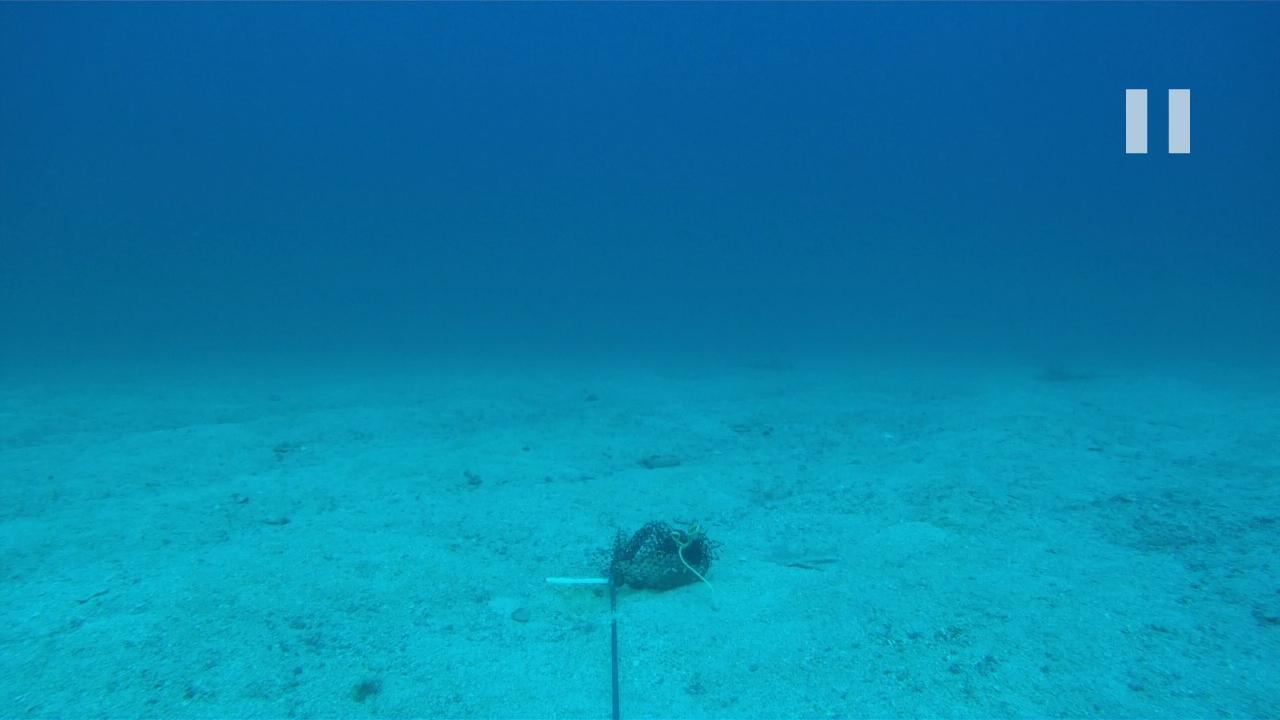bothus: (751, 538, 840, 568)
